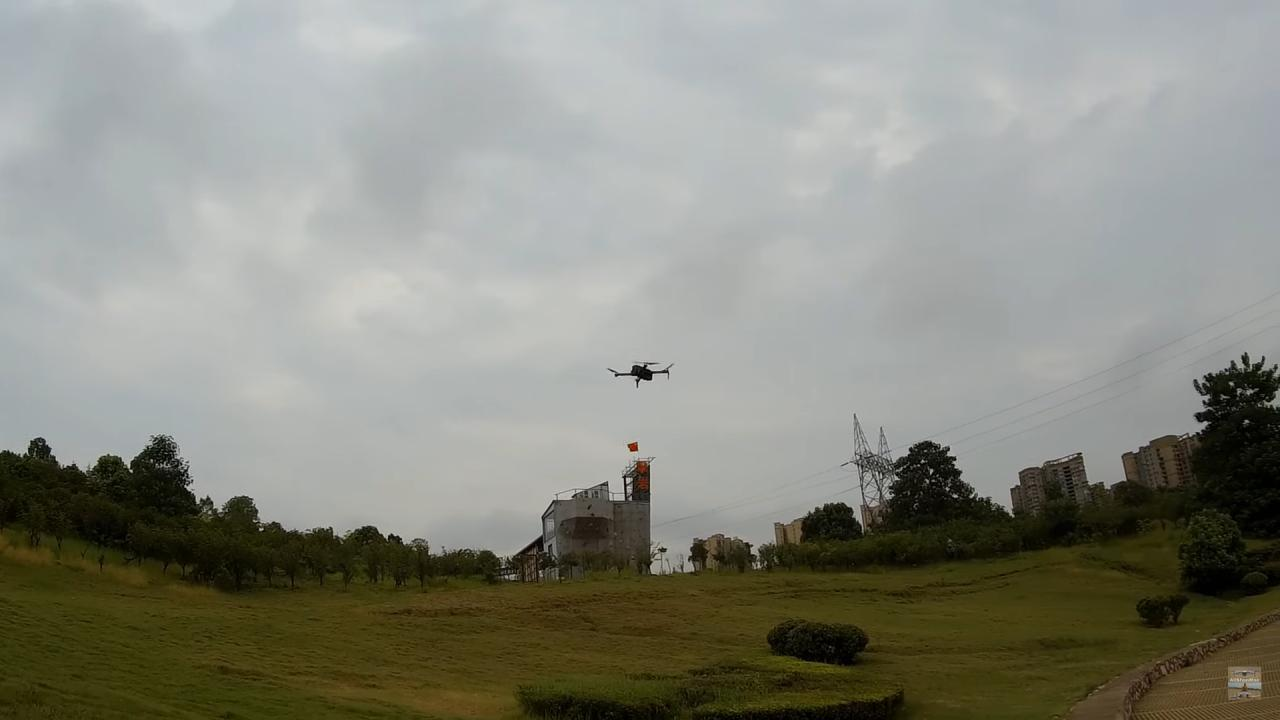Drone: (596, 346, 686, 398)
